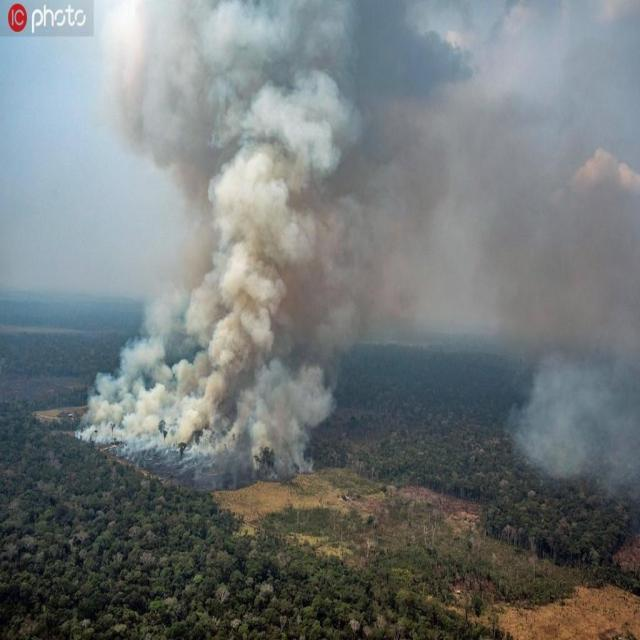Smoke: (73, 1, 640, 492)
